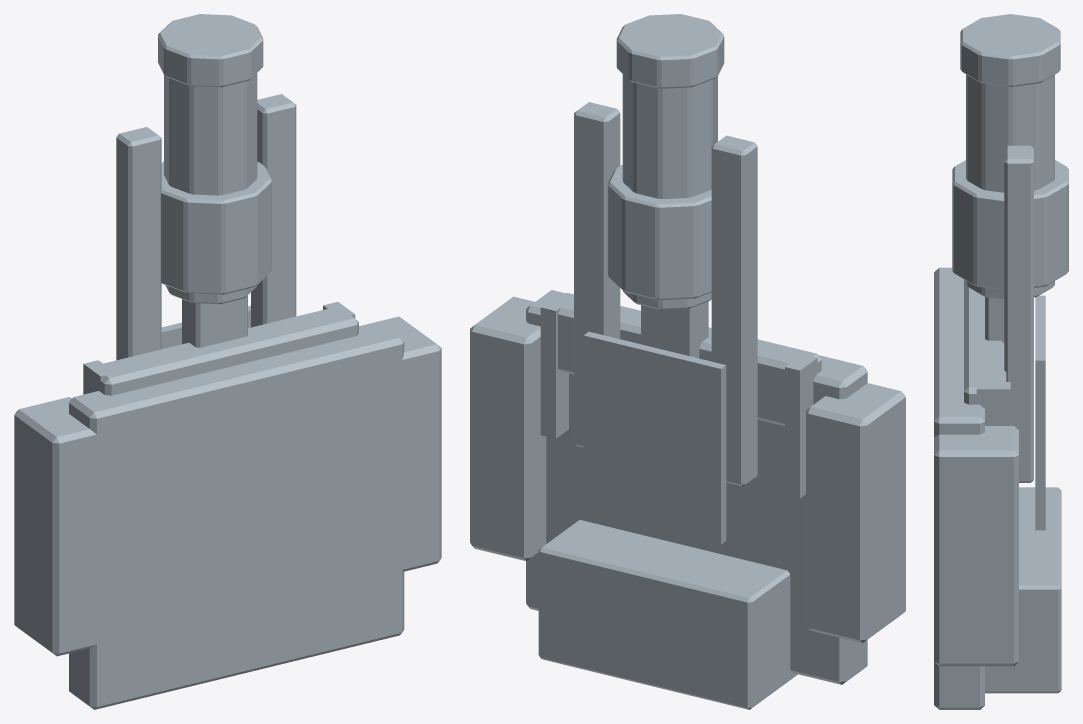
The model's file is Rail_Hardpoint.fbx.
3 renders of one model, left to right at view 1: azimuth 30°, elevation 25°; view 2: azimuth 150°, elevation 25°; view 3: azimuth 270°, elevation 25°, orthographic. The views are drawn at different scales.
Visible parts, largest first — view 1: Rail_Hardpoint; view 2: Rail_Hardpoint; view 3: Rail_Hardpoint.
Part boxes in pixels (box(x1,y1,x2,y2)): Rail_Hardpoint: box(14, 14, 441, 709); Rail_Hardpoint: box(470, 14, 905, 709); Rail_Hardpoint: box(934, 14, 1068, 709).
Bounding box in the file's own units: 52 × 79 × 15.85.
